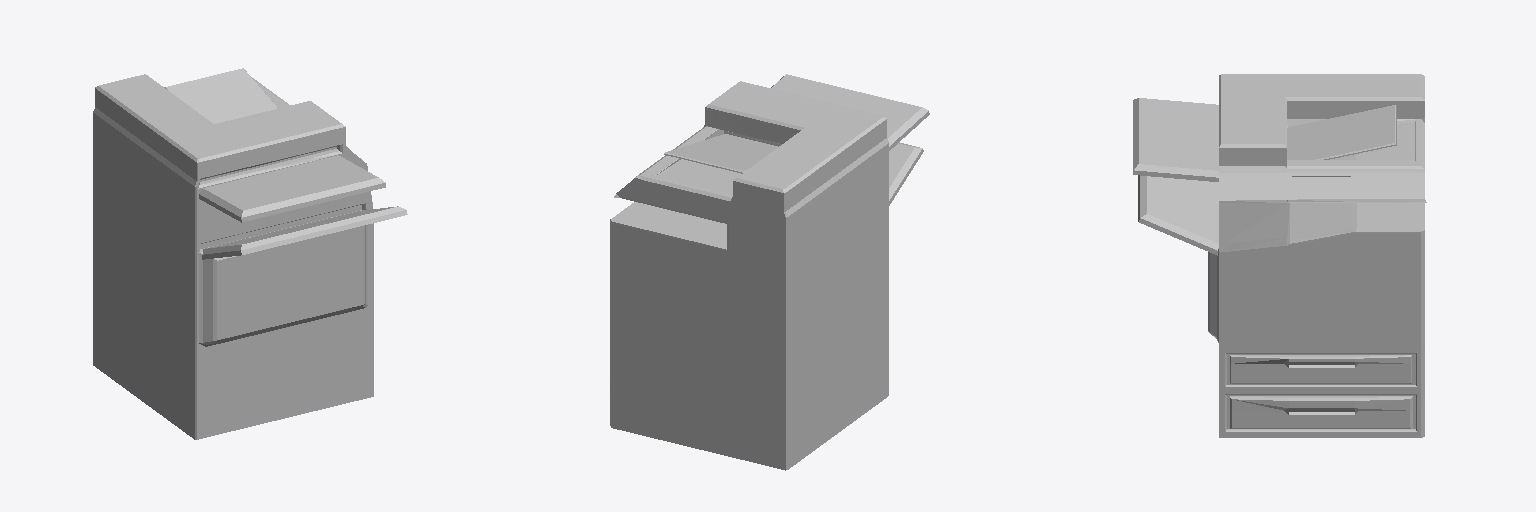
File: Printer.obj
3 renders of one model, left to right at view 1: azimuth 30°, elevation 25°; view 2: azimuth 150°, elevation 25°; view 3: azimuth 270°, elevation 25°, orthographic.
Visible parts, largest first — view 1: Printer; view 2: Printer; view 3: Printer.
Boxes of the visible parts, box(x1,y1,x2,y2) form: Printer: box(93, 68, 407, 439); Printer: box(610, 74, 929, 470); Printer: box(1133, 74, 1426, 437).
Bounding box in the file's own units: 5.81 × 8.51 × 8.13.